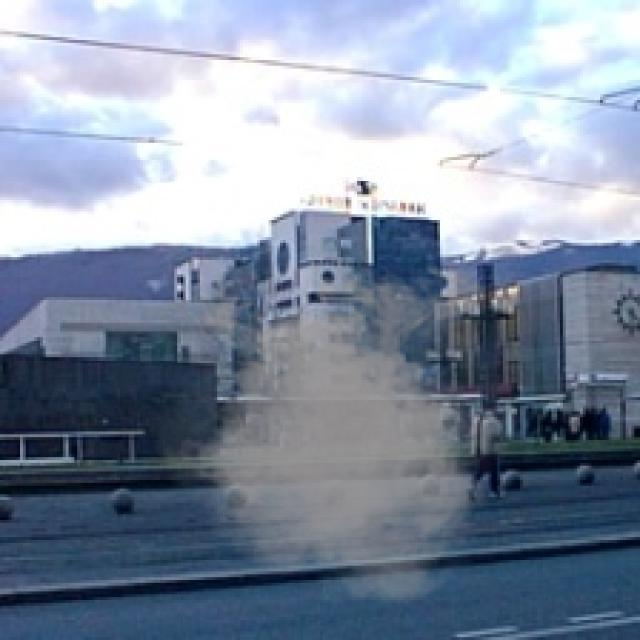Smoke: (140, 254, 543, 609)
